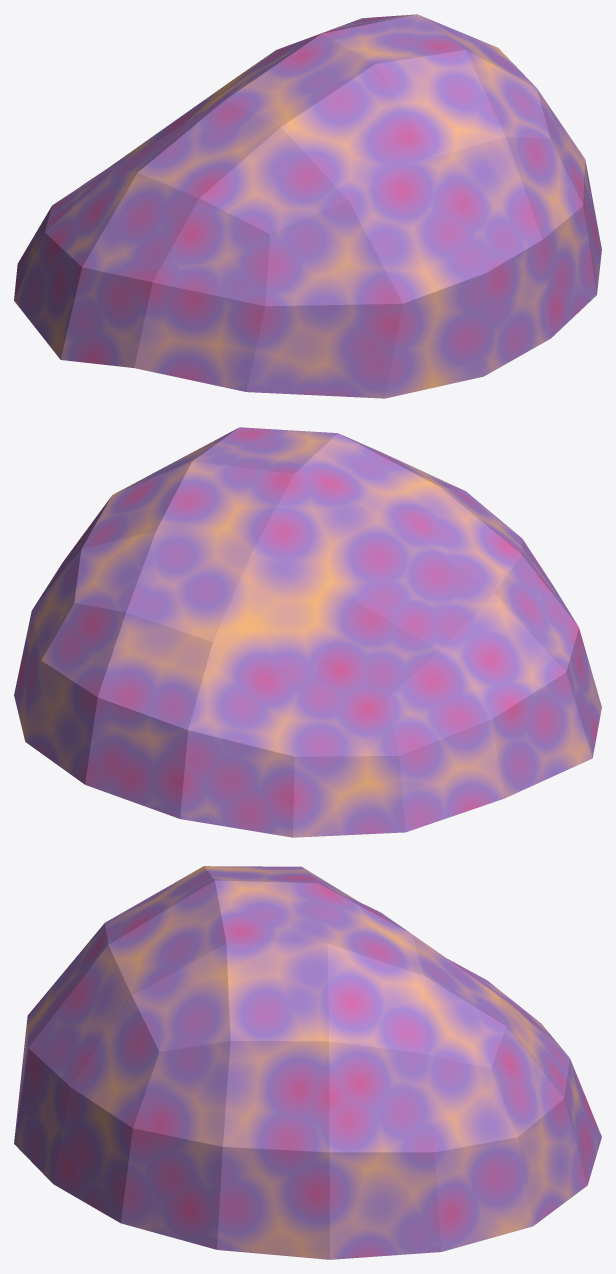
Rendered from 立方体.102.fbx.
3 renders of one model, top to bottom at view 1: azimuth 30°, elevation 25°; view 2: azimuth 150°, elevation 25°; view 3: azimuth 270°, elevation 25°, orthographic. The views are drawn at different scales.
Visible parts, largest first — view 1: 立方体.102; view 2: 立方体.102; view 3: 立方体.102.
Boxes of the visible parts, bbox=[...] form: 立方体.102: bbox=[14, 14, 601, 398]; 立方体.102: bbox=[14, 427, 601, 837]; 立方体.102: bbox=[14, 866, 601, 1259].
Size of the model in its own units: 15.86 by 7.35 by 14.49.
